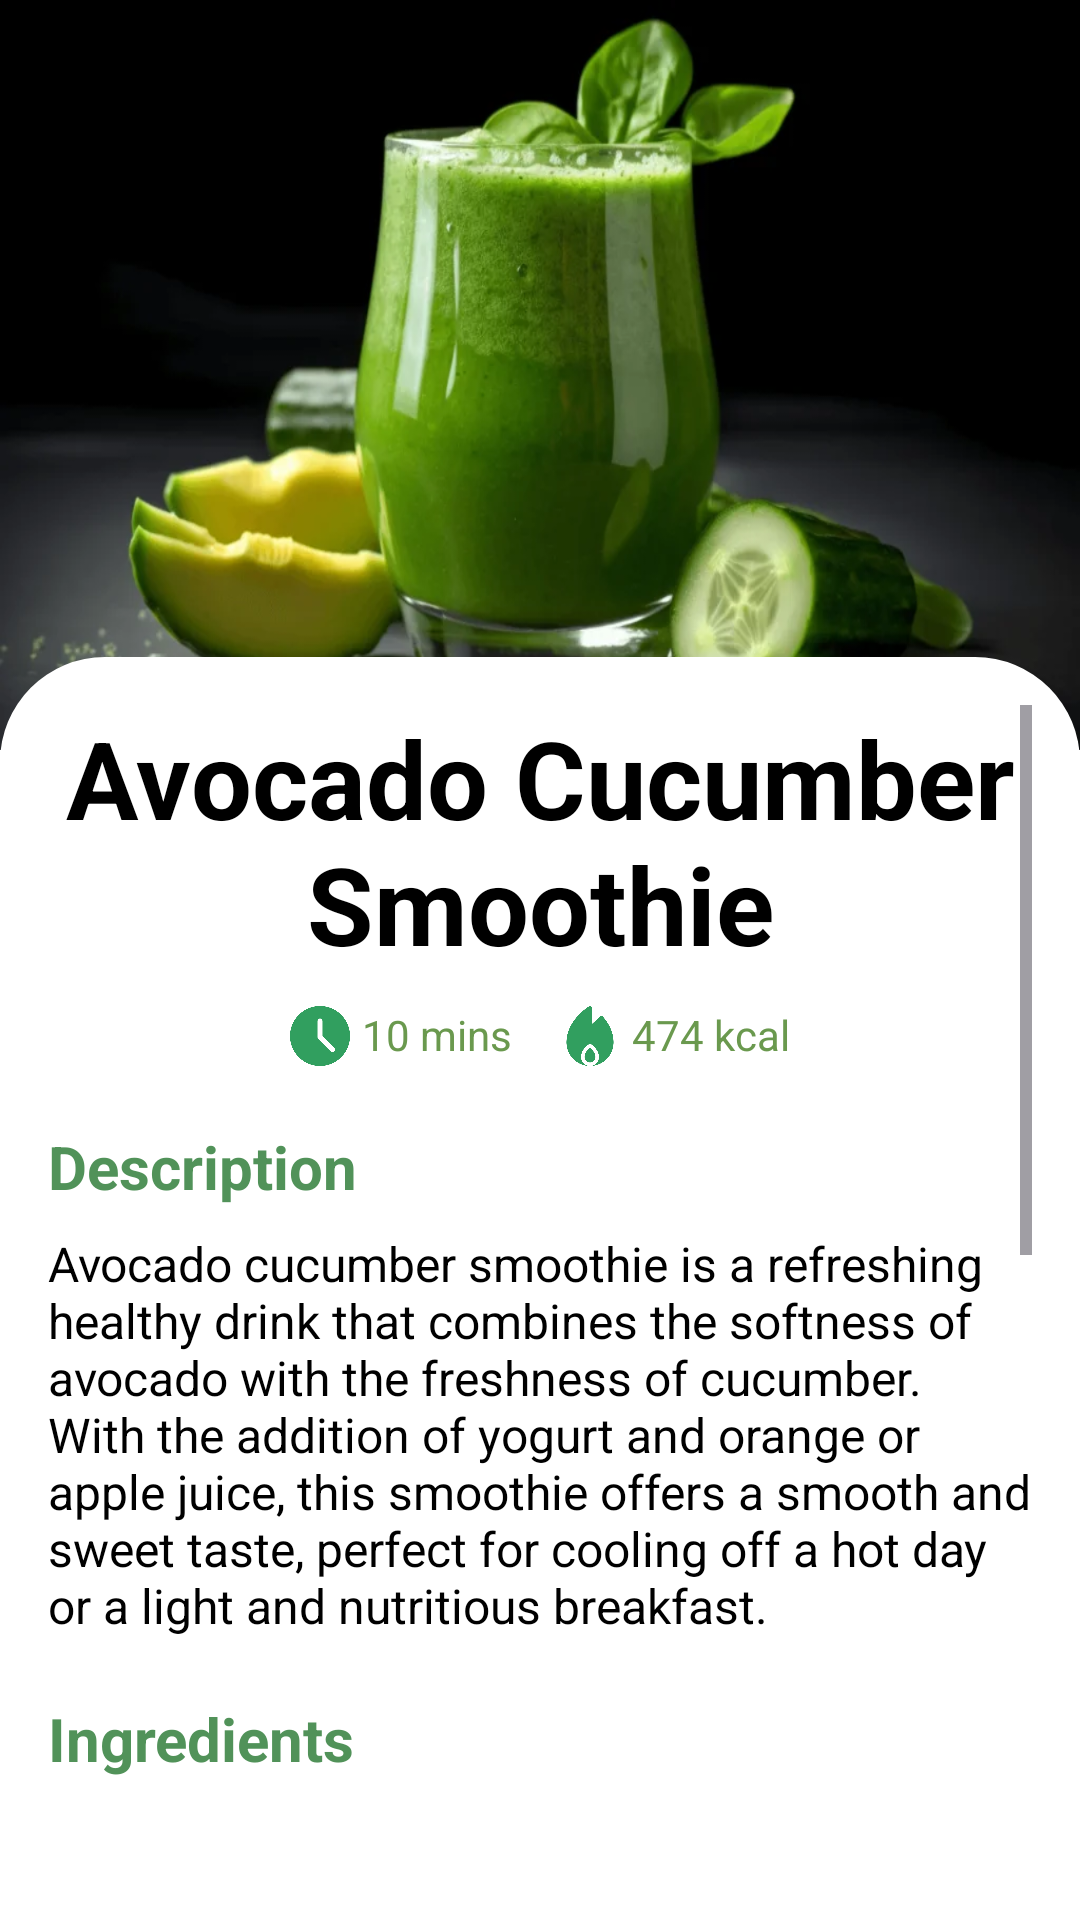

Point at icon controls on the screen. Image size 1080×1920, points as point (x, y).
calicon: point (590, 1036)
timeicon: point (320, 1036)
